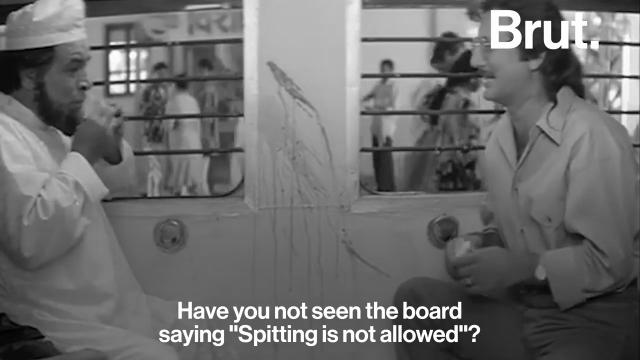spit: (256, 54, 372, 276)
